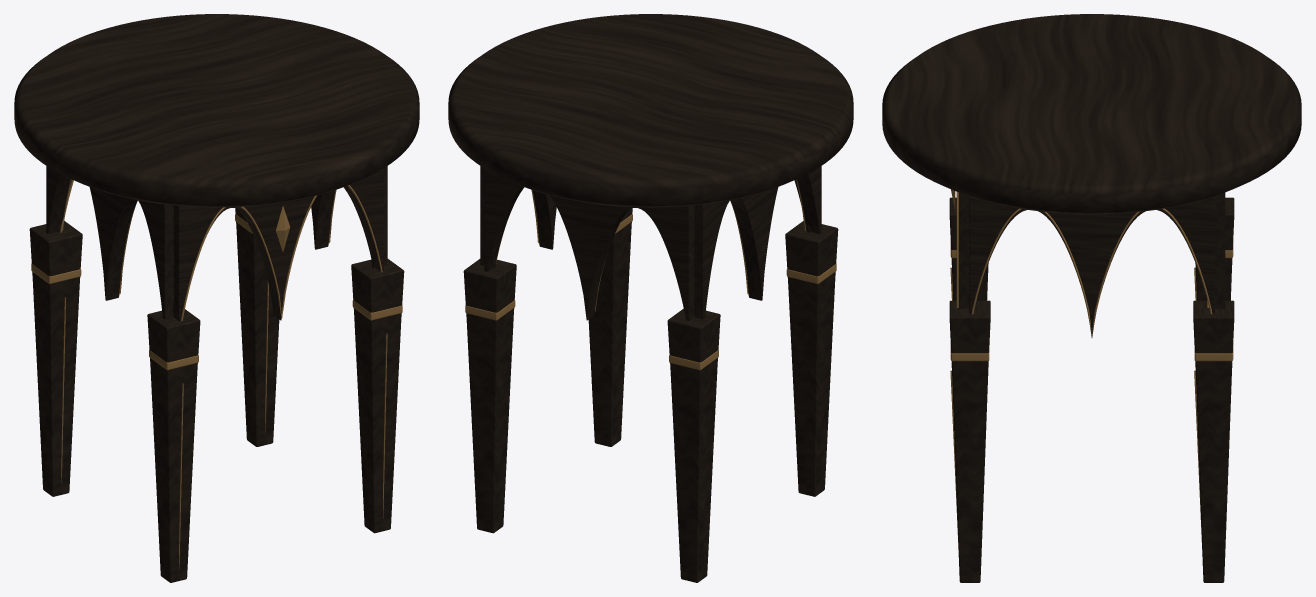
Rendered from gotico_mesa_lateral.glb.
The picture shows the model from 3 angles, left to right: view 1: azimuth 30°, elevation 25°; view 2: azimuth 150°, elevation 25°; view 3: azimuth 270°, elevation 25°; orthographic projection. The views are drawn at different scales.
Parts seen in each view (by area): view 1: mesa_lateral; view 2: mesa_lateral; view 3: mesa_lateral.
Part boxes in pixels (x1,y1,x2,y2): mesa_lateral: [14, 14, 419, 582]; mesa_lateral: [448, 14, 853, 582]; mesa_lateral: [882, 14, 1301, 582].
Bounding box in the file's own units: 0.506 × 0.57 × 0.506.
2 materials, 1 textured.
